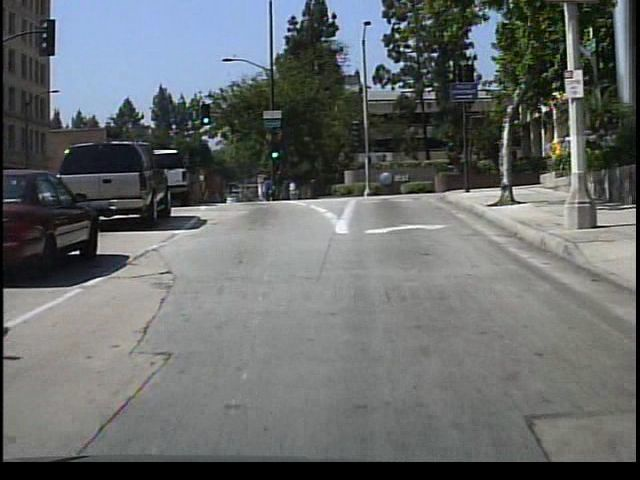person: (258, 170, 277, 204), (285, 175, 301, 202)
